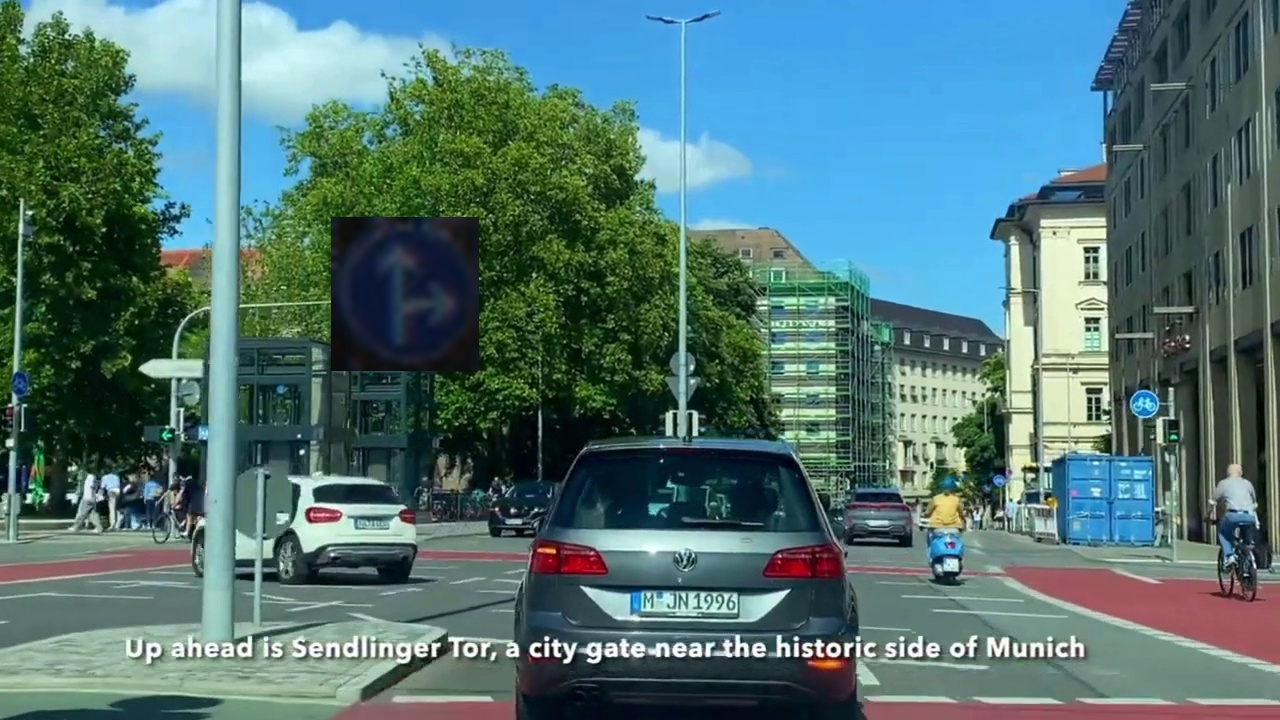Straight/right: (331, 217, 479, 371)
